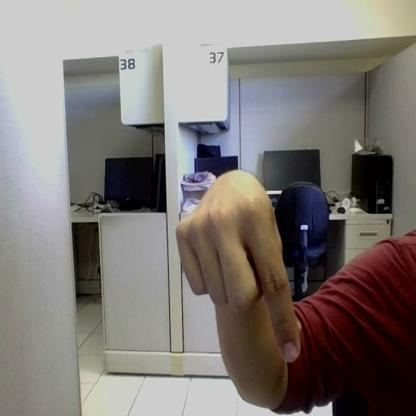Q: (176, 190, 302, 362)
